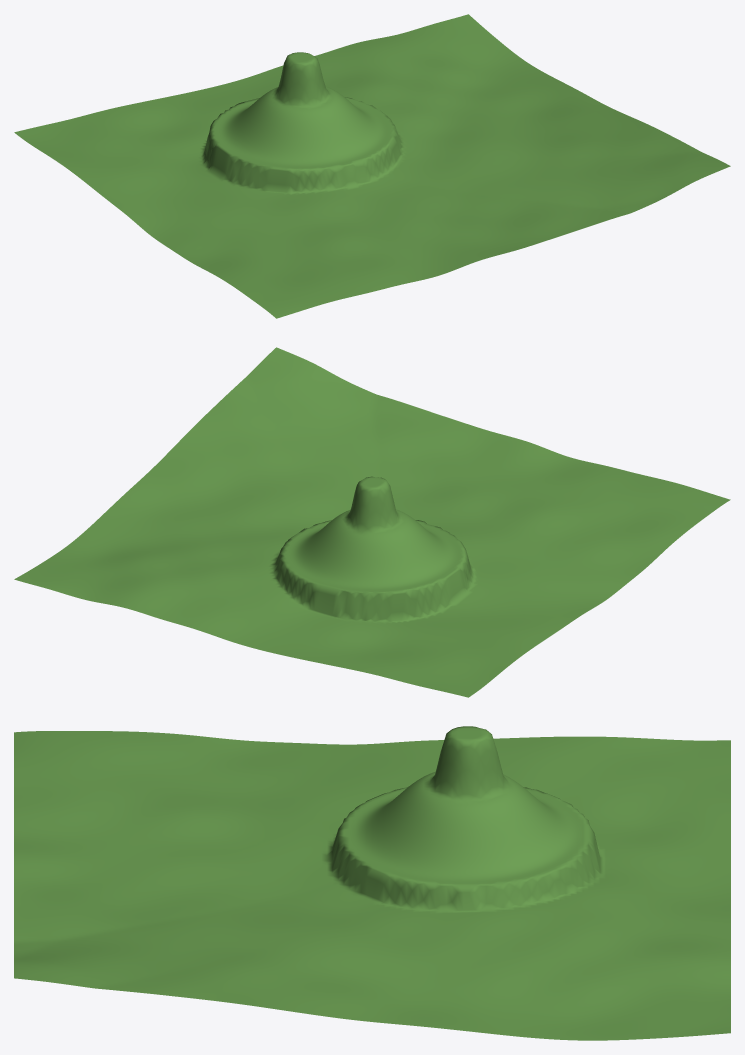
The model's file is SM_Terrain_01_01.fbx.
3 renders of one model, top to bottom at view 1: azimuth 30°, elevation 25°; view 2: azimuth 150°, elevation 25°; view 3: azimuth 270°, elevation 25°, orthographic. The views are drawn at different scales.
Parts seen in each view (by area): view 1: SM_Terrain_01_01; view 2: SM_Terrain_01_01; view 3: SM_Terrain_01_01.
Part boxes in pixels (<box>): SM_Terrain_01_01: <box>14,14,730,318</box>; SM_Terrain_01_01: <box>14,347,730,697</box>; SM_Terrain_01_01: <box>14,726,730,1040</box>.
Bounding box in the file's own units: 384 × 81.88 × 384.
